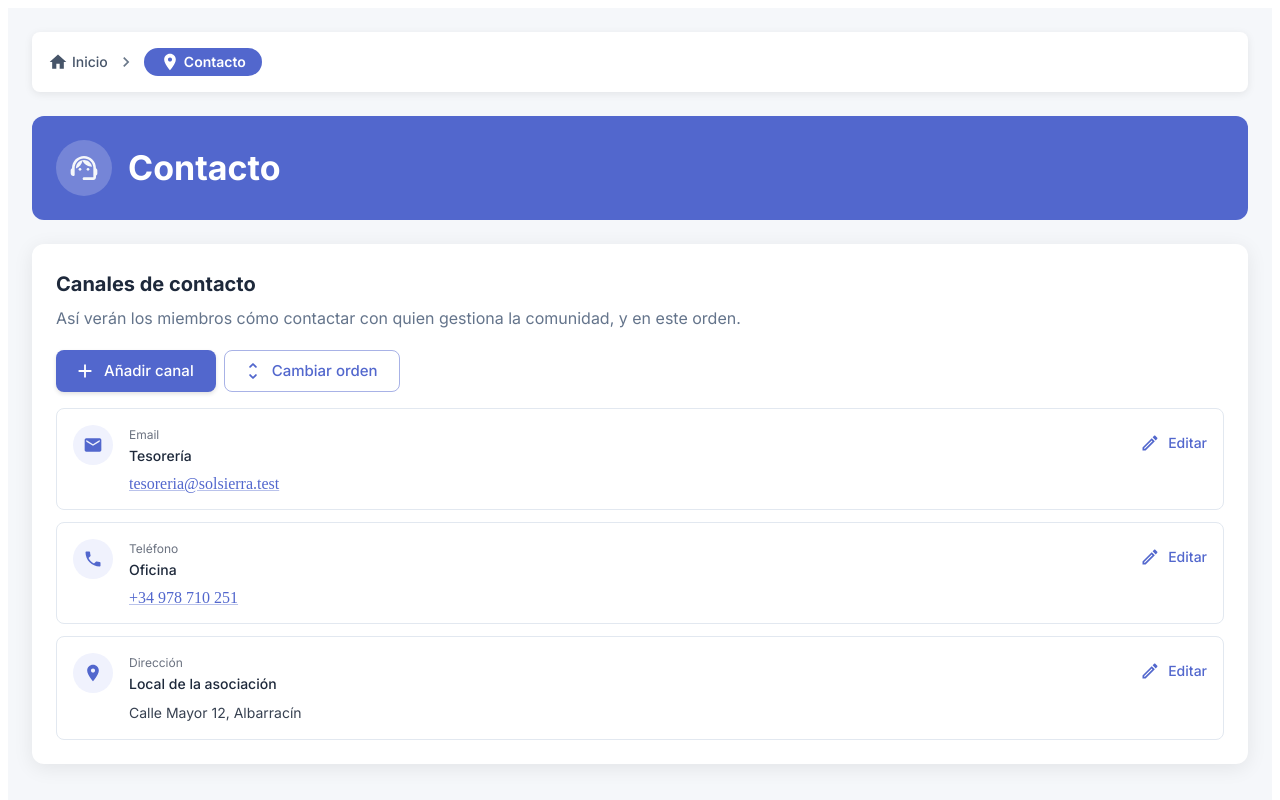
Test: losing the right to edit › AC13 after a 403, Cerrar leads to the member view
Click the button with aria-label "Editar Oficina".
click(1176, 557)  # box [1136,535,1215,579]
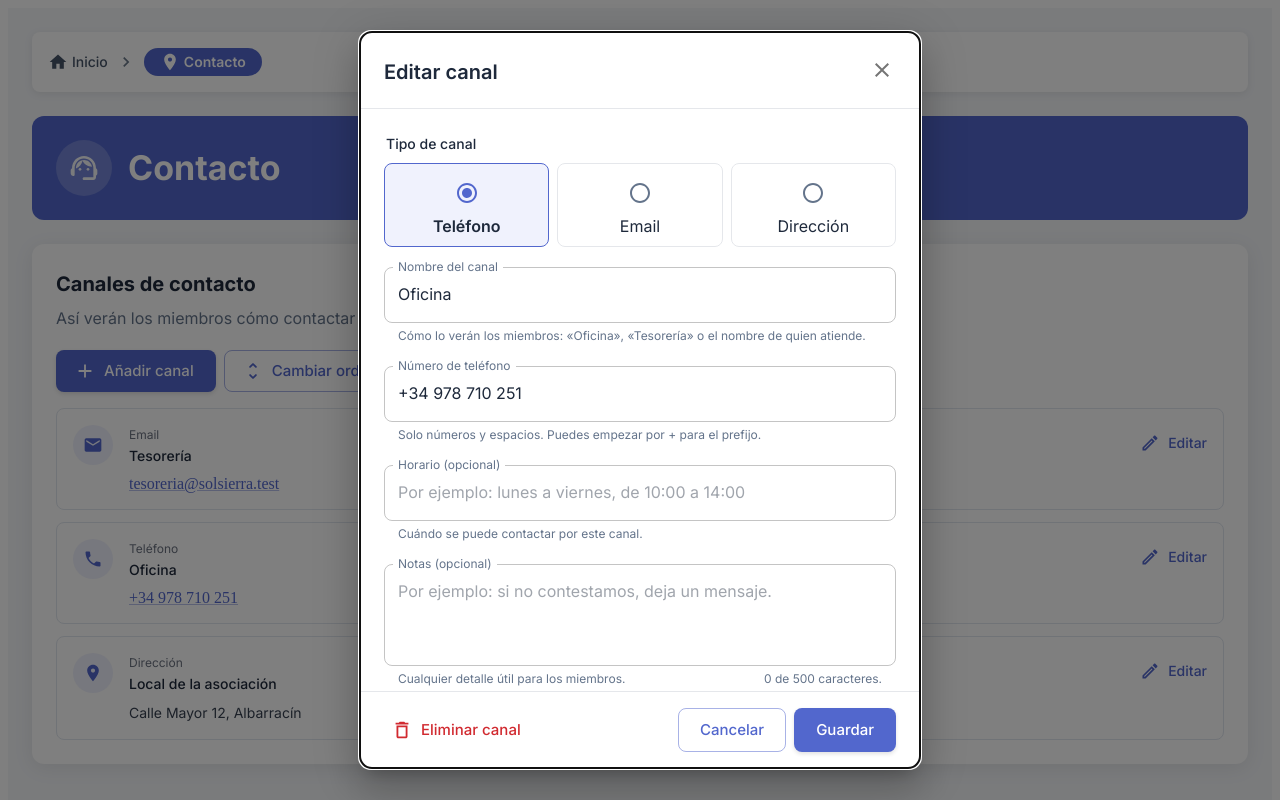
Click the button "Guardar".
click(845, 730)  # box [794,708,896,752]
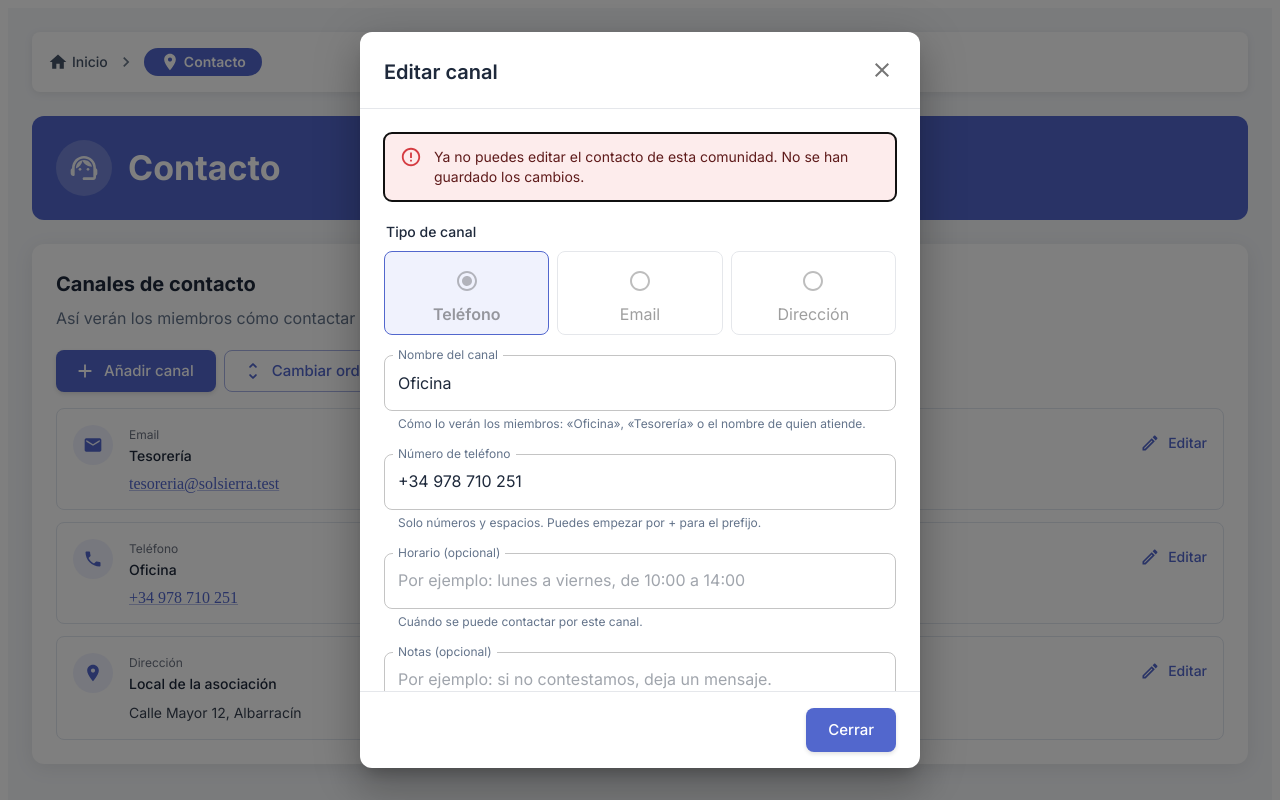
Now the text "Ya no puedes editar el contacto de esta comunidad. No se han guardado los cambios." is shown, box [434,148,848,185]
Click the button "Cerrar".
click(851, 730)  # box [806,708,896,752]
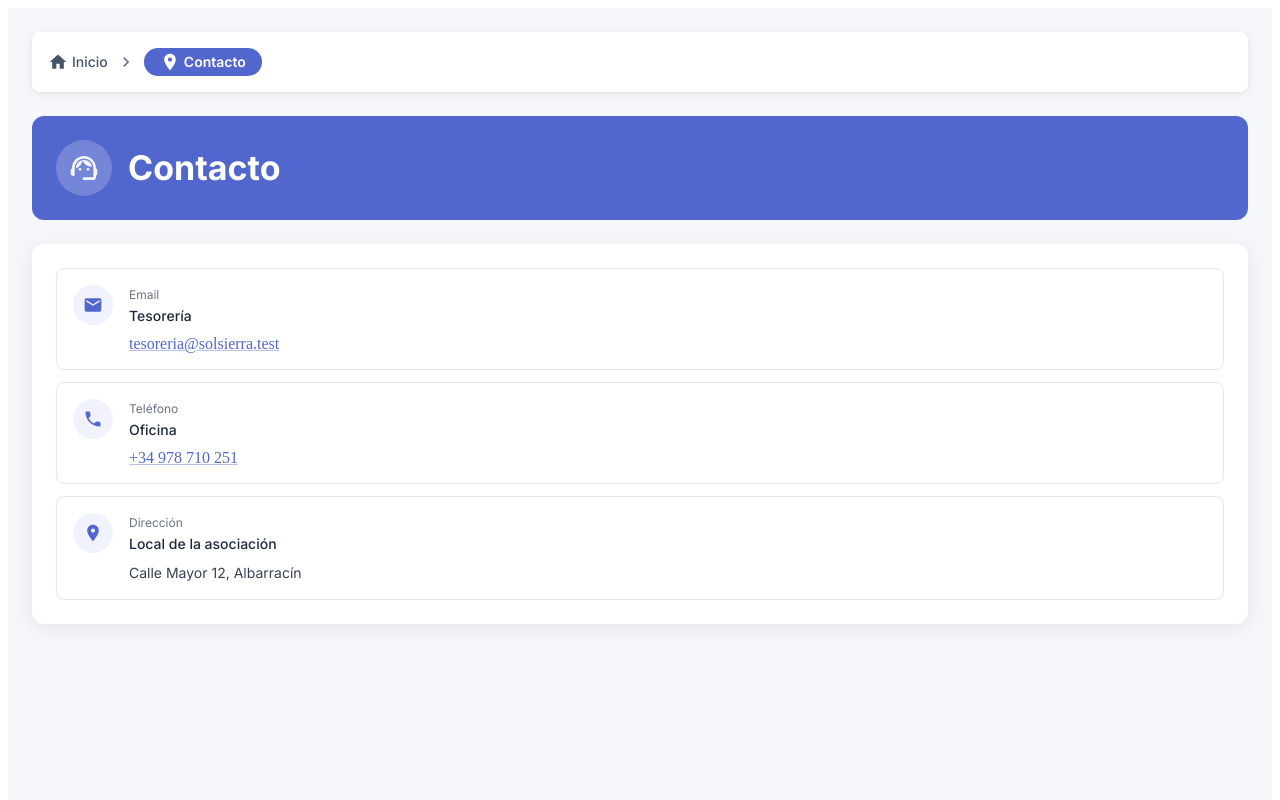
Now the button "Editar " is gone
Now the dialog is gone
Now the button "Añadir canal" is gone
